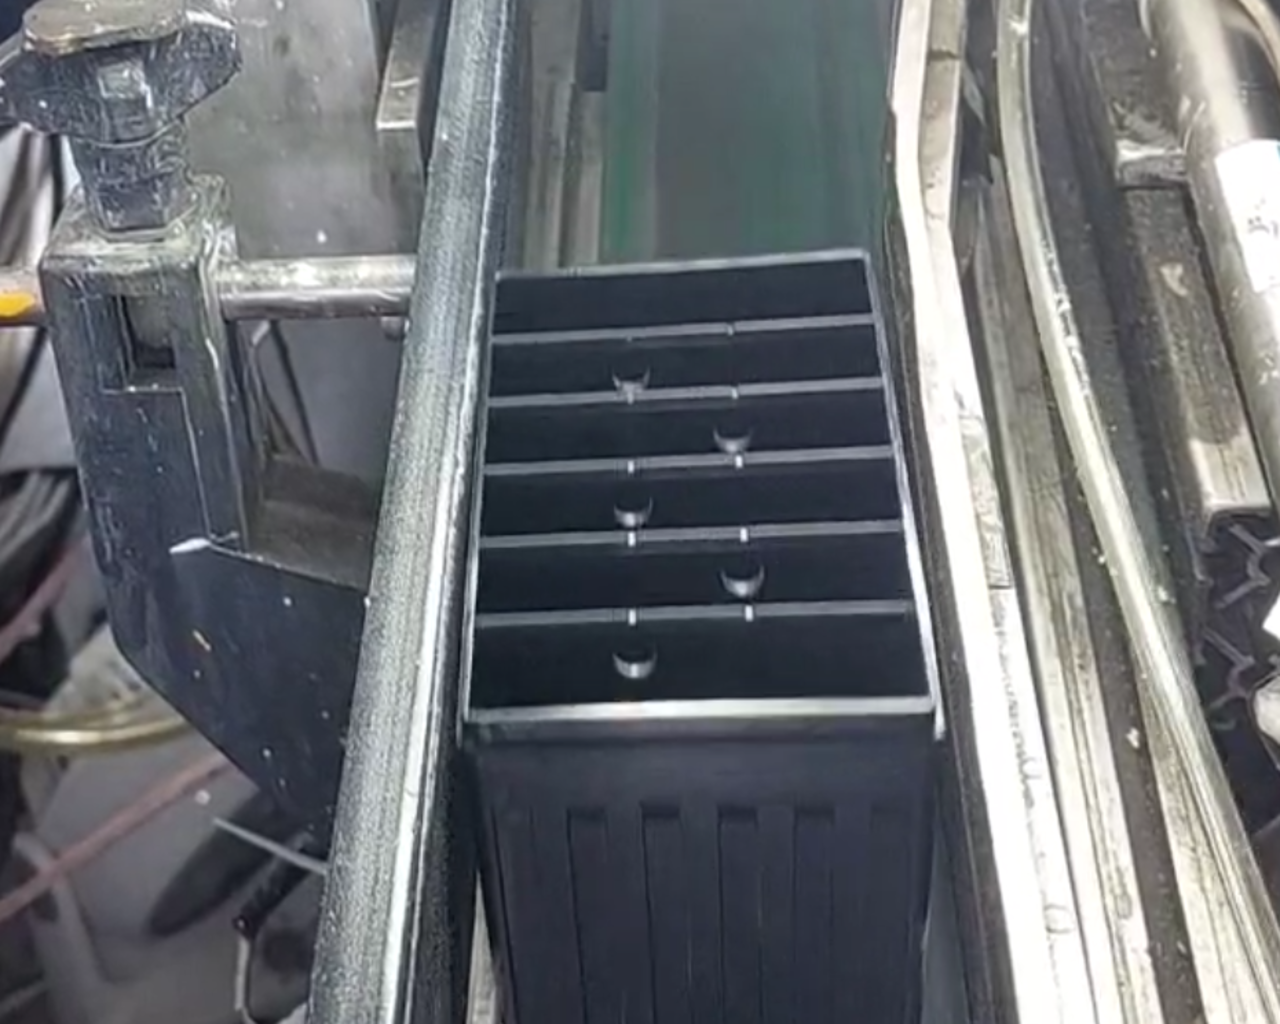box: (440, 234, 958, 764)
round: (604, 626, 669, 686), (709, 545, 775, 604), (598, 478, 666, 532), (700, 406, 767, 458), (600, 347, 659, 396)
